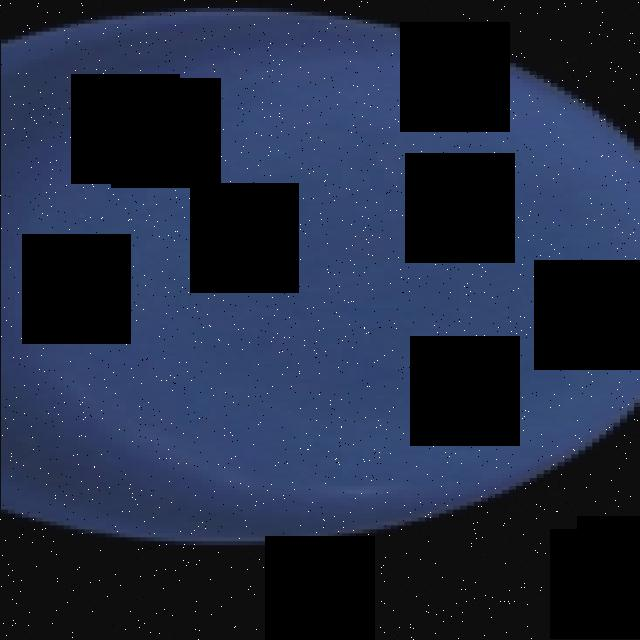Neptune: (0, 8, 640, 549)
